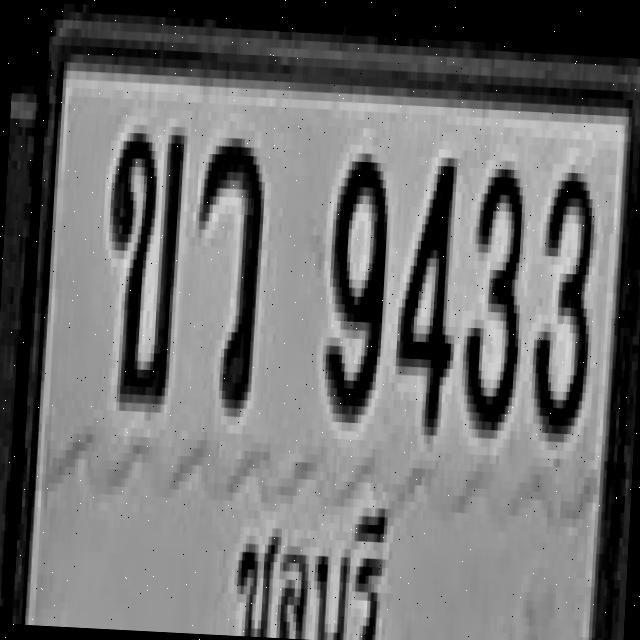11KhorKhai: (100, 123, 184, 404)
3: (460, 160, 528, 432), (530, 163, 598, 435)
4: (392, 152, 460, 432)
46WorWaen: (188, 128, 266, 409)
9: (322, 148, 389, 420)
Chonburi: (218, 475, 396, 640)
